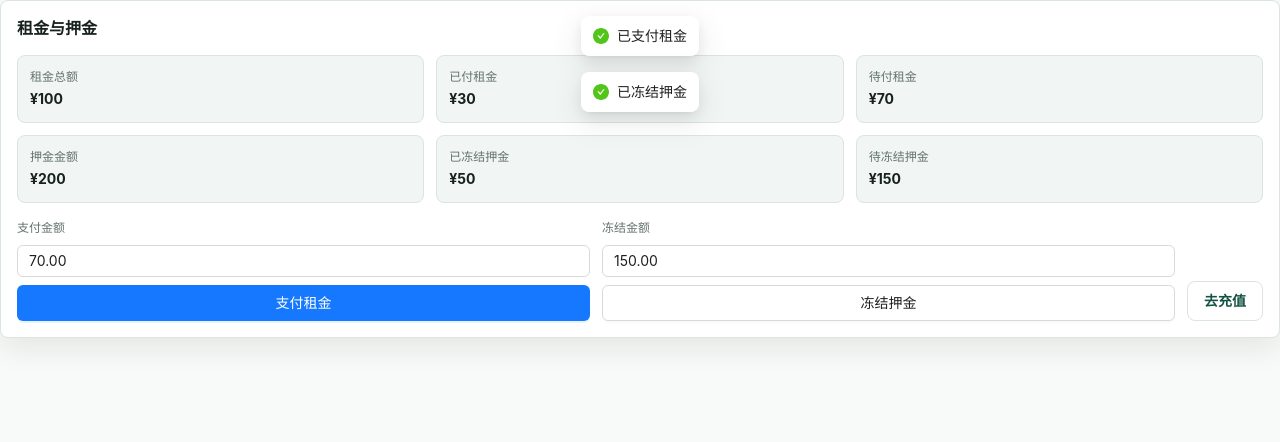
Test case: PaymentPanel › shows wallet warning when pay/freeze fails with debt error
This screenshot has width=1280, height=442.
Replace the text in the number field labelled "支付金额" with "70" at {"x": 304, "y": 261}, box x1=18 y1=246 x2=589 y2=276
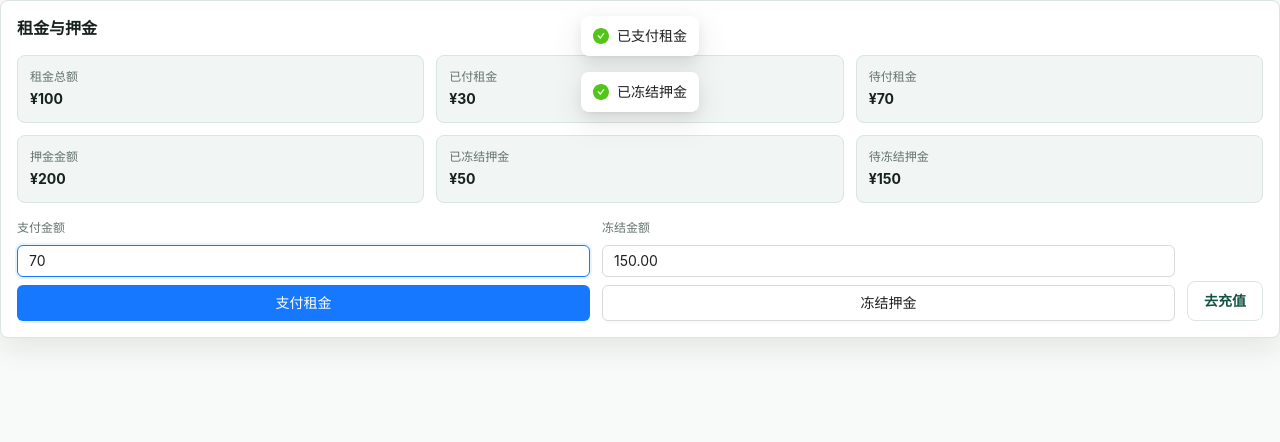
Click the button "支付租金" at {"x": 304, "y": 303}, box x1=17 y1=285 x2=590 y2=321
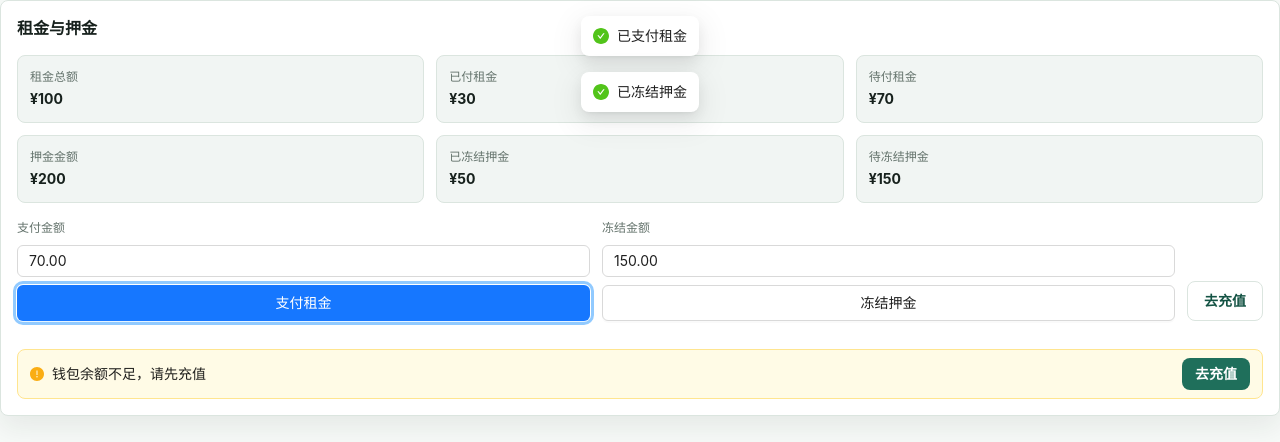
Check: the text "钱包余额不足，请先充值" is shown, box x1=52 y1=365 x2=206 y2=382
